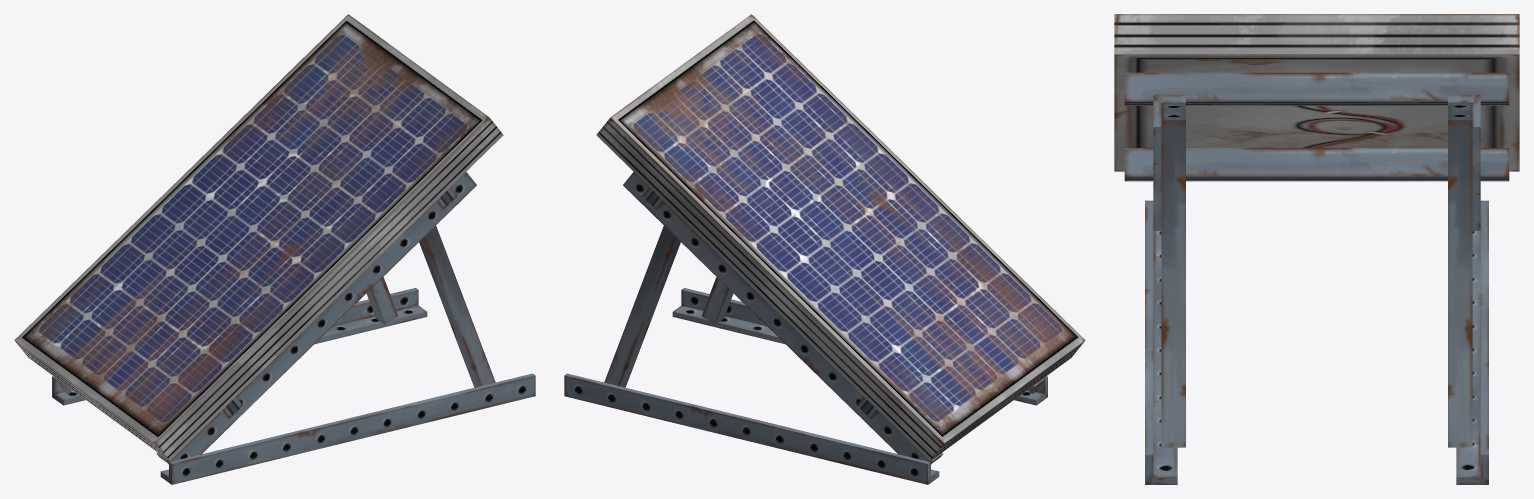
File: solarPanel.fbx
The picture shows the model from 3 angles, left to right: view 1: azimuth 30°, elevation 25°; view 2: azimuth 150°, elevation 25°; view 3: azimuth 270°, elevation 25°; orthographic projection. The views are drawn at different scales.
Parts seen in each view (by area): view 1: solarPanel; view 2: solarPanel; view 3: solarPanel.
Part boxes in pixels (left/top/right/bottom): solarPanel: left=14, top=14, right=535, bottom=484; solarPanel: left=564, top=14, right=1085, bottom=484; solarPanel: left=1114, top=14, right=1519, bottom=484.
Bounding box in the file's own units: 158 × 116 × 99.
